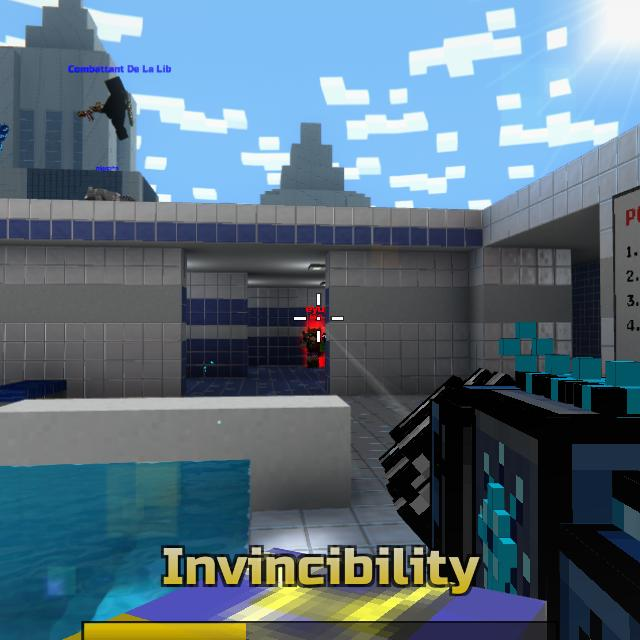Enemy: (301, 329, 325, 367)
